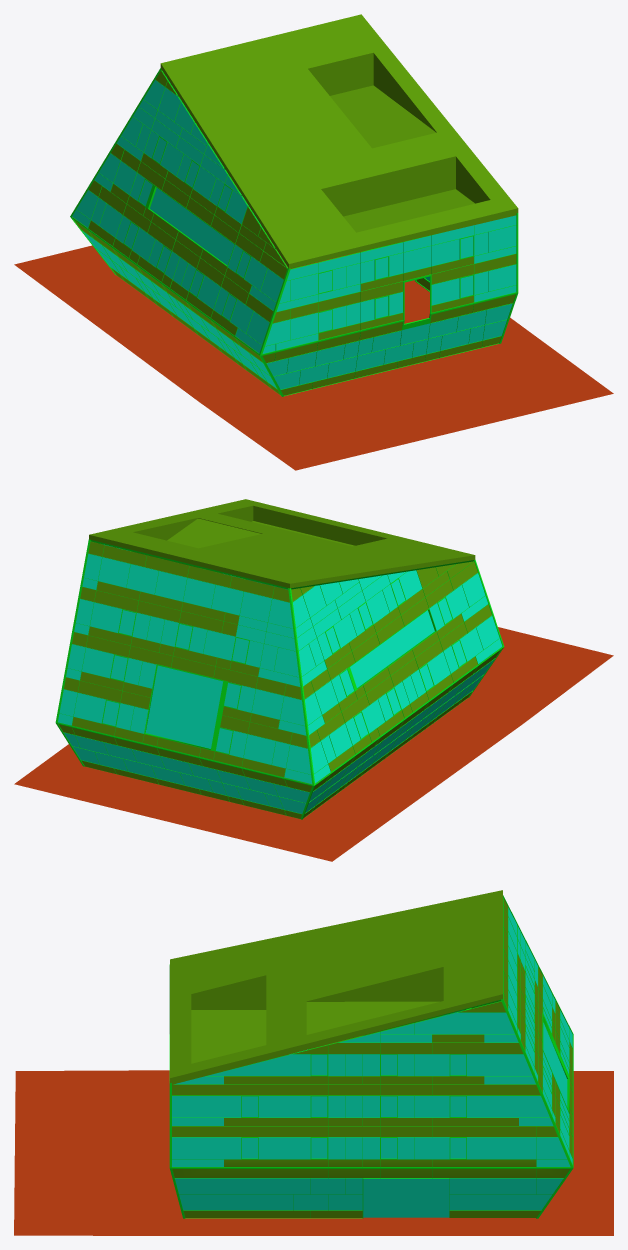
The model's file is SM_Bld_Blok6_01a.fbx.
3 views of the same model, one above another, from view 1: azimuth 30°, elevation 25°; view 2: azimuth 150°, elevation 25°; view 3: azimuth 270°, elevation 25° (orthographic). The views are drawn at different scales.
Visible parts, largest first — view 1: SM_Bld_Blok6_01a, SM_Bld_Blok6_01b; view 2: SM_Bld_Blok6_01a, SM_Bld_Blok6_01b; view 3: SM_Bld_Blok6_01a, SM_Bld_Blok6_01b.
Part boxes in pixels (x1,y1,x2,y2): SM_Bld_Blok6_01a: [14, 14, 613, 470]; SM_Bld_Blok6_01b: [70, 68, 518, 396]; SM_Bld_Blok6_01a: [14, 499, 613, 861]; SM_Bld_Blok6_01b: [55, 539, 504, 819]; SM_Bld_Blok6_01a: [14, 890, 613, 1235]; SM_Bld_Blok6_01b: [169, 895, 573, 1218].
Bounding box in the file's own units: 2629 × 1702 × 4020.
